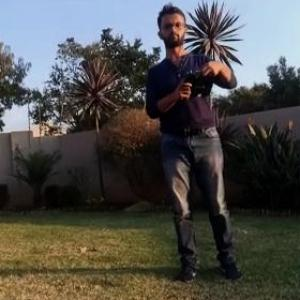follow: (144, 1, 254, 294)
